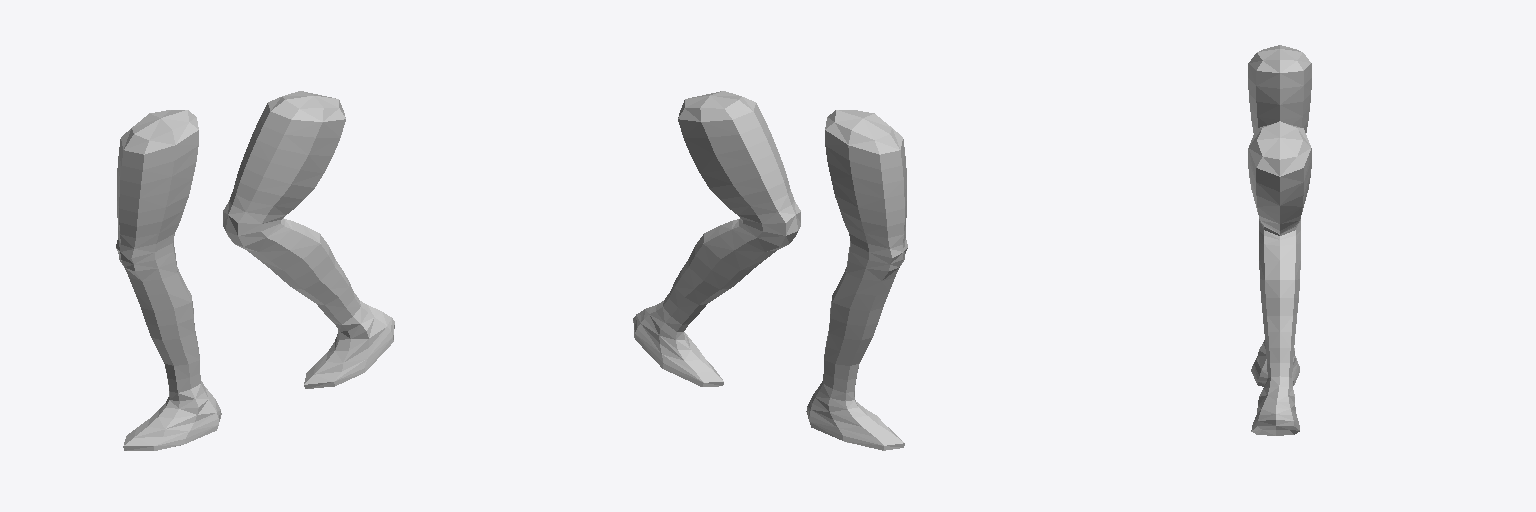
The model's file is leg_timed.obj.
3 renders of one model, left to right at view 1: azimuth 30°, elevation 25°; view 2: azimuth 150°, elevation 25°; view 3: azimuth 270°, elevation 25°, orthographic.
Parts seen in each view (by area): view 1: Cube, Cube.002; view 2: Cube, Cube.002; view 3: Cube, Cube.002.
Boxes of the visible parts, x1,y1,x2,y2 form: Cube: [223, 91, 394, 388]; Cube.002: [116, 110, 221, 450]; Cube: [633, 91, 800, 386]; Cube.002: [806, 110, 907, 450]; Cube: [1248, 121, 1311, 435]; Cube.002: [1248, 45, 1311, 386].
Bounding box in the file's own units: 19.19 × 21.83 × 3.89.